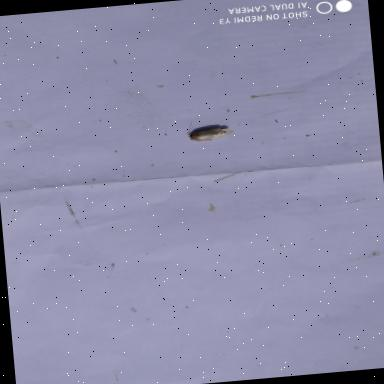pbw: (183, 116, 239, 146)
